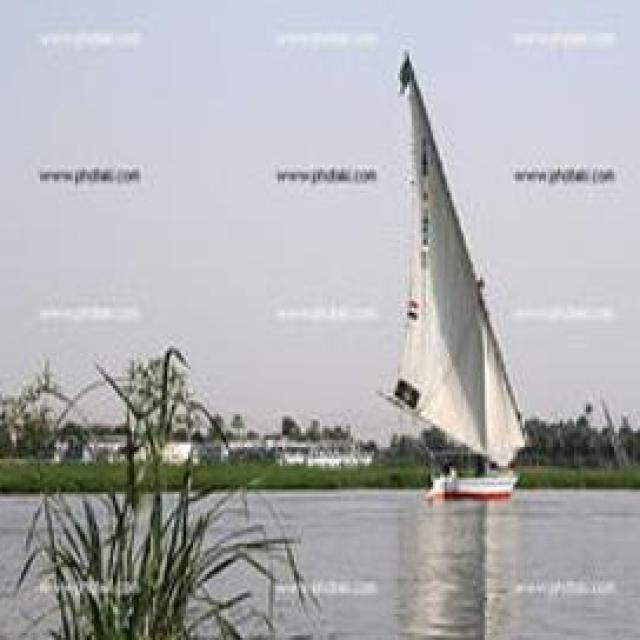sailboat: (315, 64, 550, 508)
